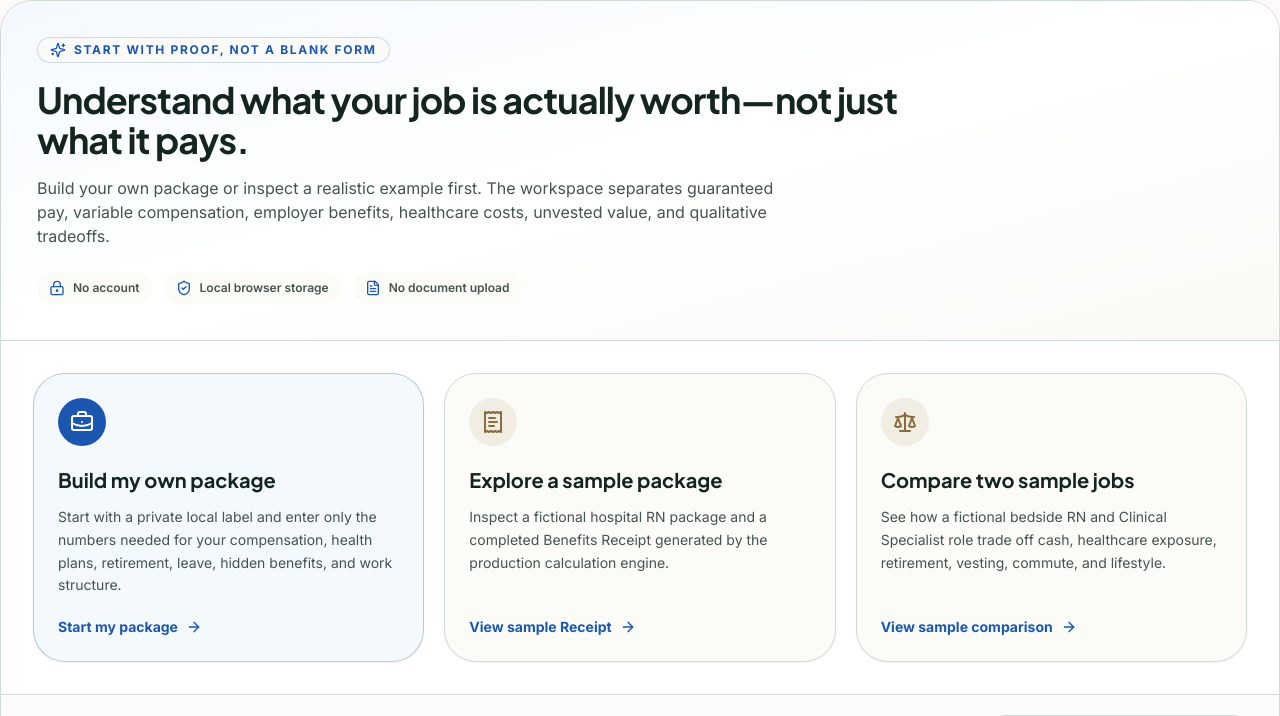
Test: BenefitsCommandCenterActivation › loads the fictional bedside versus specialist comparison
Click the button "Compare two sample jobs".
click(1051, 518)  # box [856,373,1247,662]
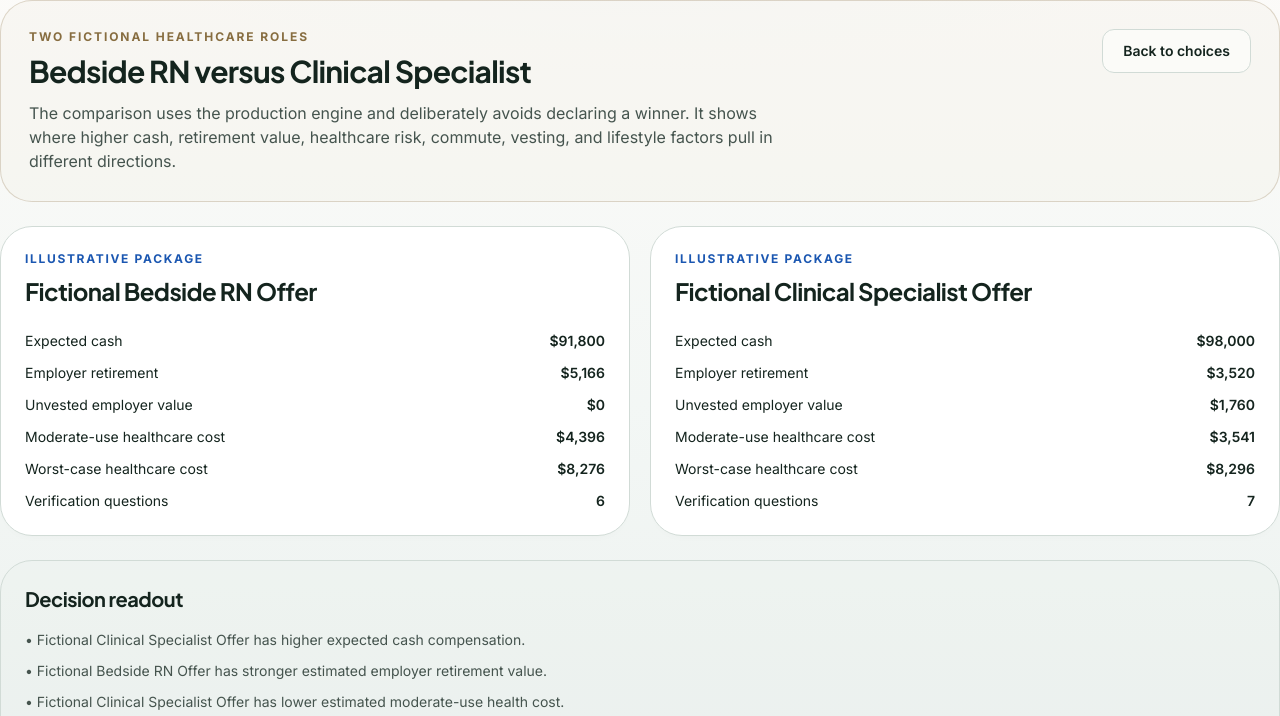
Expected: the heading "Bedside RN versus Clinical Specialist" is shown, [29,52,531,90]
Expected: the heading "Fictional Bedside RN Offer" is shown, [25,276,317,306]
Expected: the heading "Fictional Clinical Specialist Offer" is shown, [675,276,1032,306]
